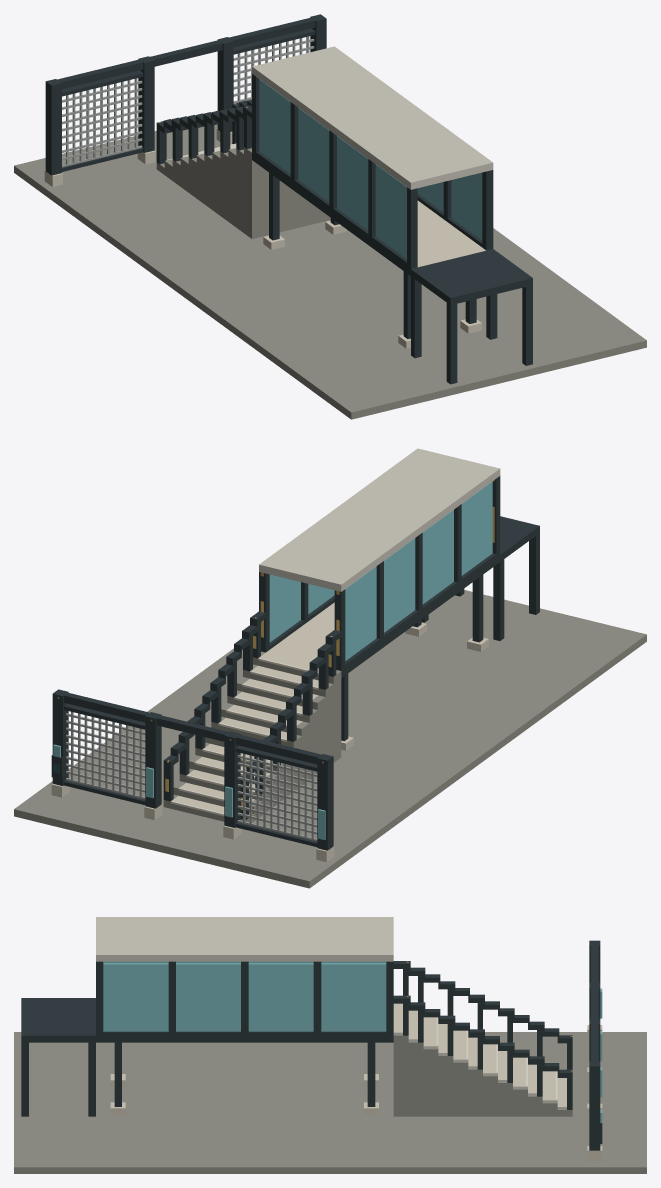
3 views of the same model, one above another, from view 1: azimuth 30°, elevation 25°; view 2: azimuth 150°, elevation 25°; view 3: azimuth 270°, elevation 25° (orthographic). The views are drawn at different scales.
Visible parts, largest first — view 1: 显式试验地坪（辅助）, 航站至机位步行登机接台 (×2), 机场安全边界与合法门组件, 非飞机的明确接收舱地板和承柱（辅助）; view 2: 显式试验地坪（辅助）, 航站至机位步行登机接台 (×2), 机场安全边界与合法门组件, 非飞机的明确接收舱地板和承柱（辅助）; view 3: 显式试验地坪（辅助）, 航站至机位步行登机接台 (×2), 非飞机的明确接收舱地板和承柱（辅助）, 机场安全边界与合法门组件.
Part boxes in pixels (left/top/right/bottom): 显式试验地坪（辅助）: left=14, top=124, right=646, bottom=419; 航站至机位步行登机接台 (×2): left=156, top=46, right=493, bottom=348; 机场安全边界与合法门组件: left=44, top=14, right=326, bottom=186; 非飞机的明确接收舱地板和承柱（辅助）: left=411, top=249, right=532, bottom=384; 显式试验地坪（辅助）: left=14, top=590, right=646, bottom=888; 航站至机位步行登机接台 (×2): left=163, top=448, right=500, bottom=822; 机场安全边界与合法门组件: left=51, top=689, right=334, bottom=862; 非飞机的明确接收舱地板和承柱（辅助）: left=421, top=516, right=539, bottom=640; 显式试验地坪（辅助）: left=14, top=1032, right=646, bottom=1173; 航站至机位步行登机接台 (×2): left=96, top=917, right=572, bottom=1116; 非飞机的明确接收舱地板和承柱（辅助）: left=21, top=998, right=95, bottom=1116; 机场安全边界与合法门组件: left=587, top=940, right=602, bottom=1160.
Size of the model in its own units: 8.6 by 5 by 17.
10 materials, 10 textured.
